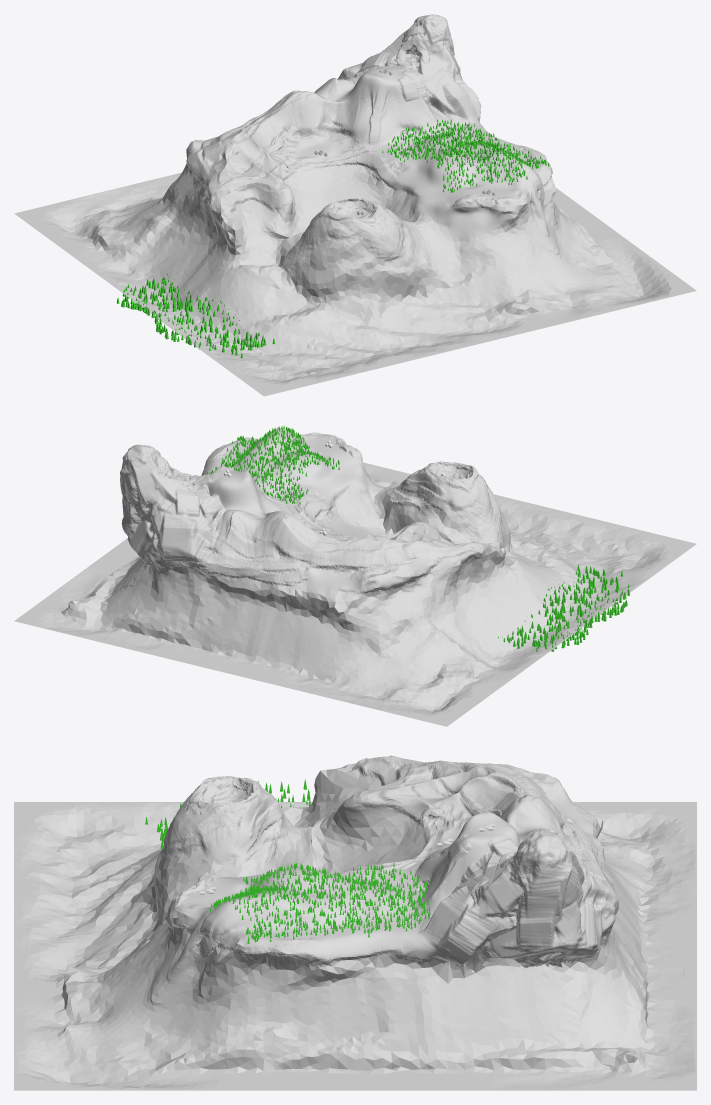
File: campaign_map.glb
The picture shows the model from 3 angles, top to bottom: view 1: azimuth 30°, elevation 25°; view 2: azimuth 150°, elevation 25°; view 3: azimuth 270°, elevation 25°; orthographic projection. The views are drawn at different scales.
Visible parts, largest first — view 1: map, forest, Cube.005; view 2: map, forest, Cube.005; view 3: map, forest.
Part boxes in pixels (x1,y1,x2,y2): map: (14,14,696,396); forest: (382,119,549,192); Cube.005: (117,273,275,358); map: (14,428,696,726); forest: (206,425,339,504); Cube.005: (498,556,629,651); map: (14,755,696,1090); forest: (209,863,430,943).
Size of what is drawn, in the model's own units: 12.44 by 4.34 by 12.
